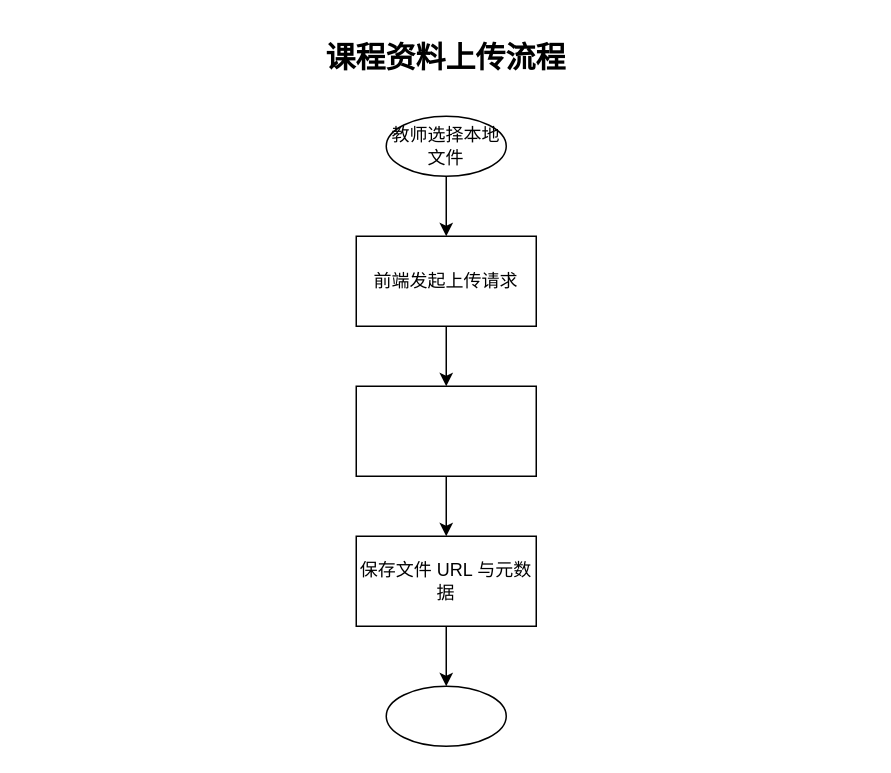
The diagram is 891 pixels wide and 773 high, and some of its shapes have lost their labels. The centre of each missing label's shape, as x and y in pixels:
后端流式上传至 OSS: [445,430]
资料发布成功: [445,715]
